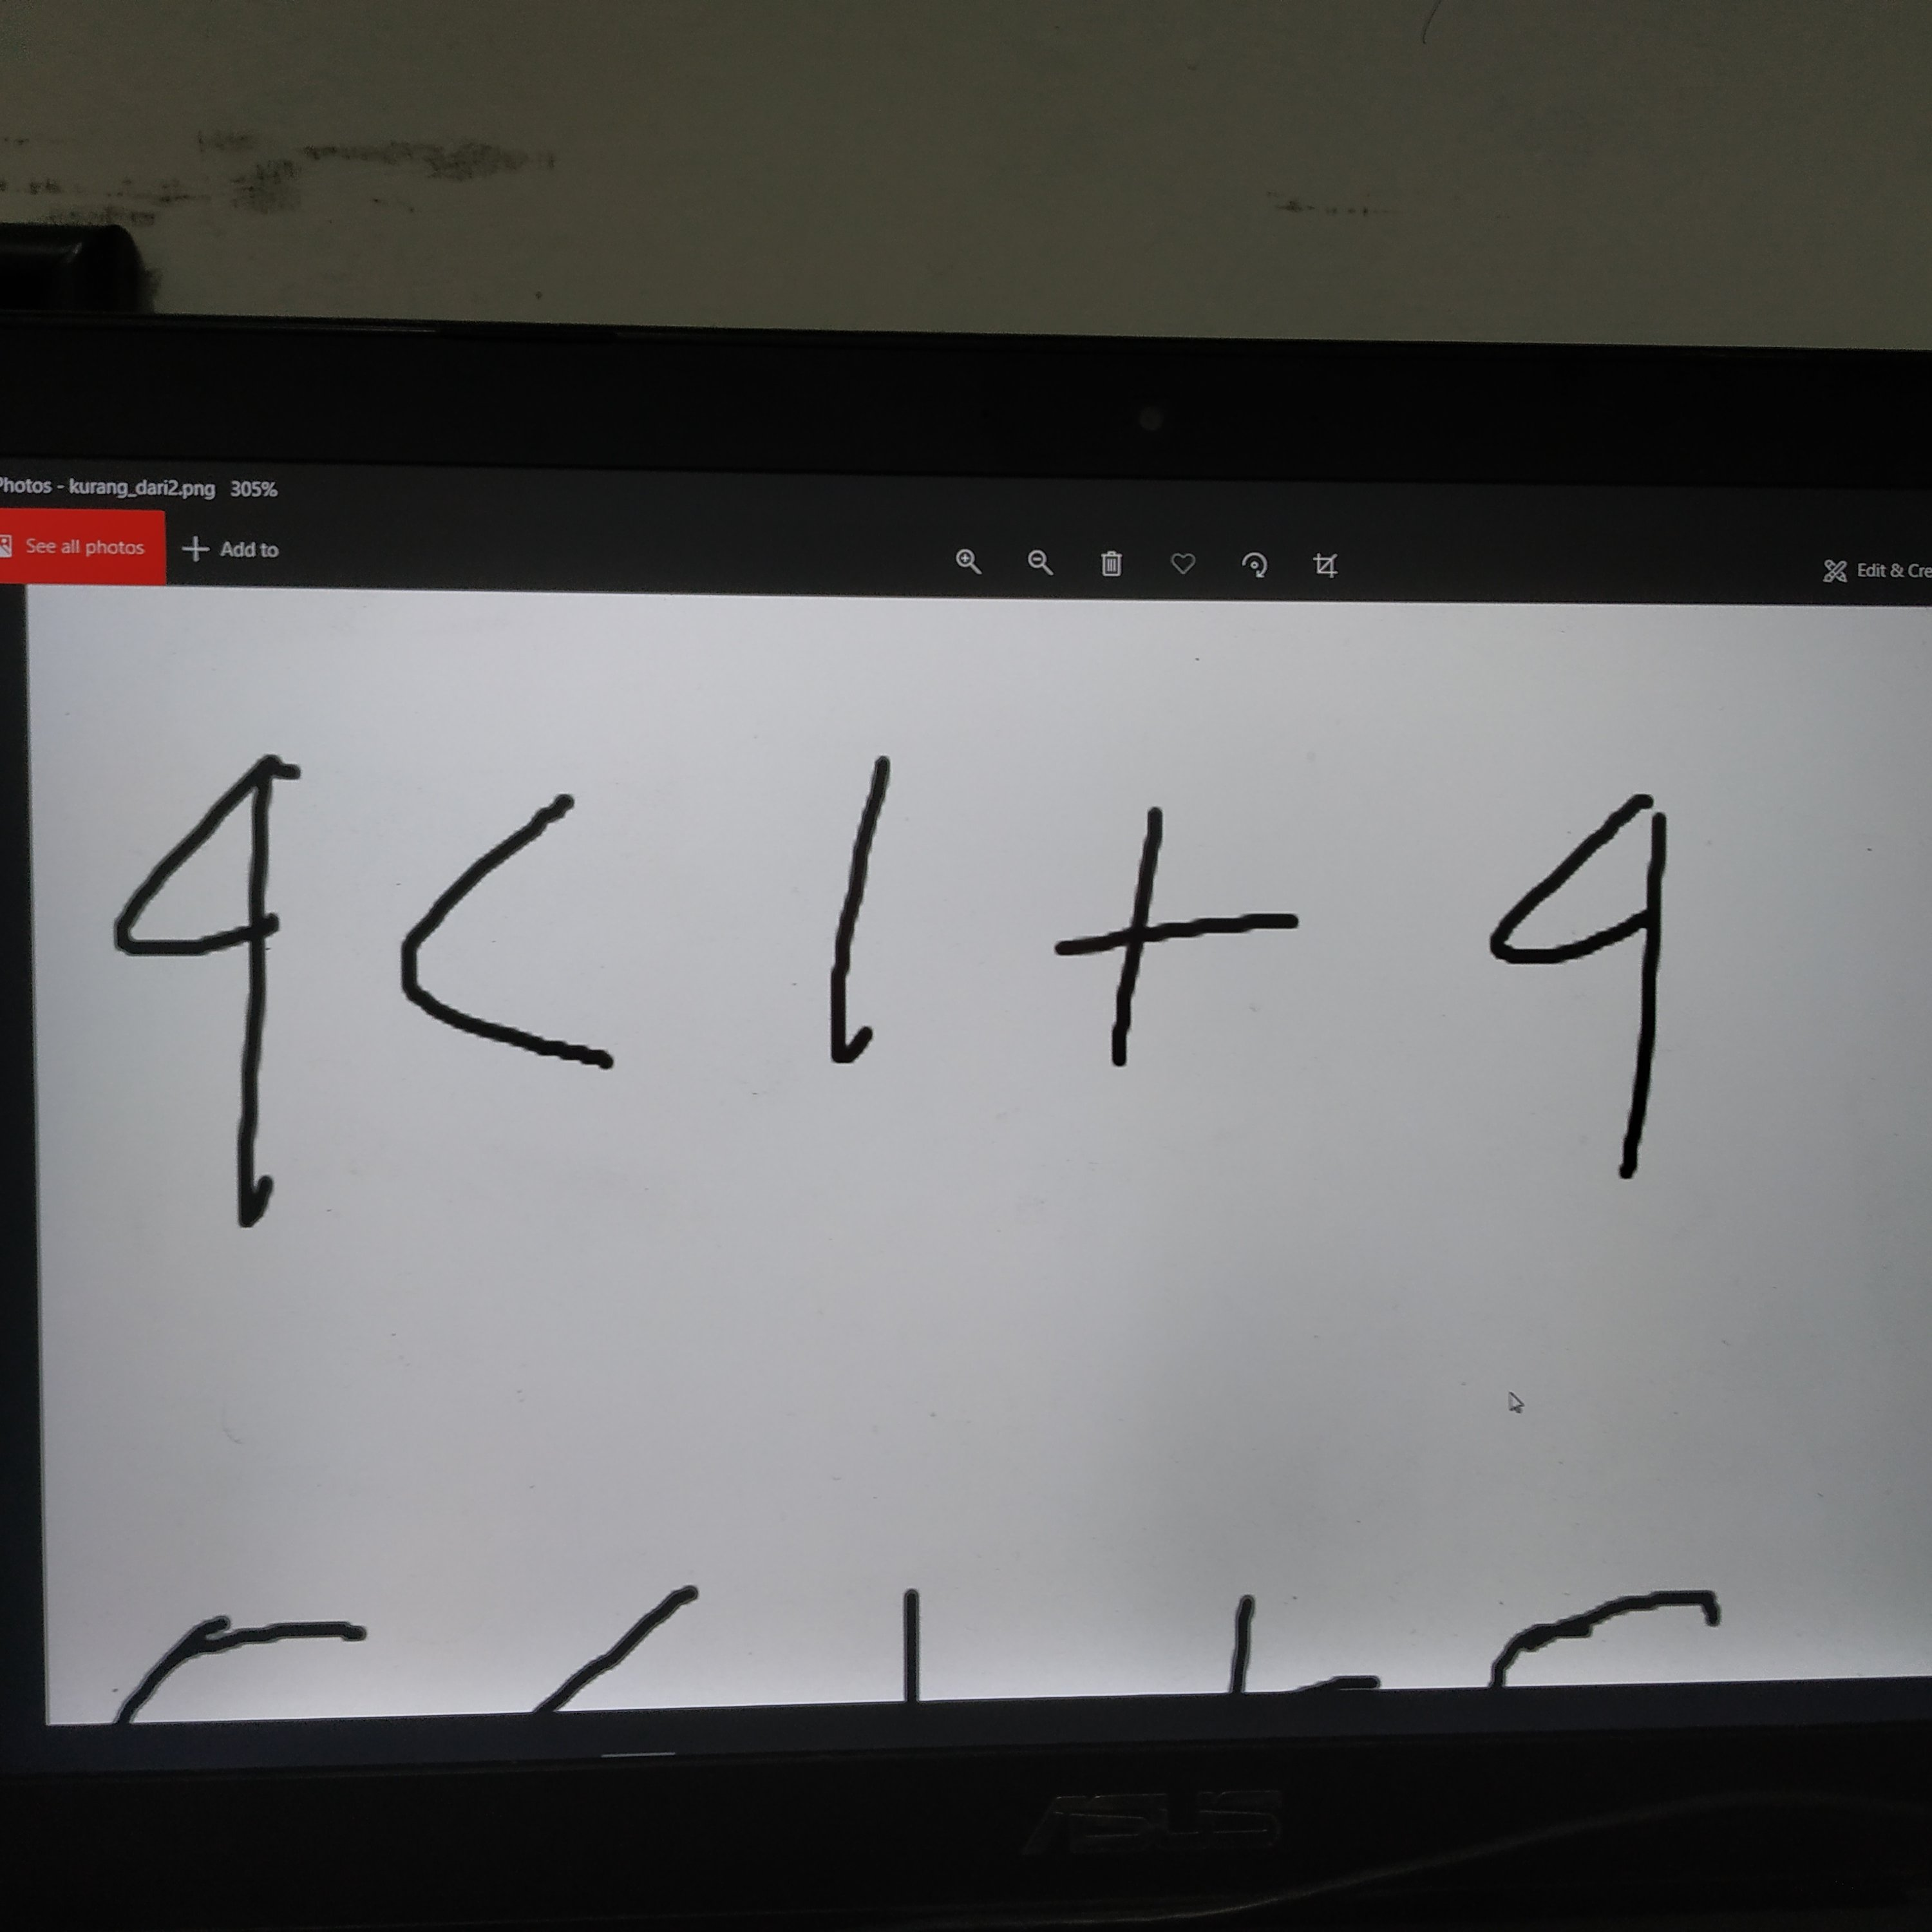lessthan: (379, 784, 654, 1088)
num1: (797, 719, 918, 1102)
num4: (86, 719, 315, 1231), (1468, 780, 1706, 1206)
sum: (1045, 791, 1314, 1084)
